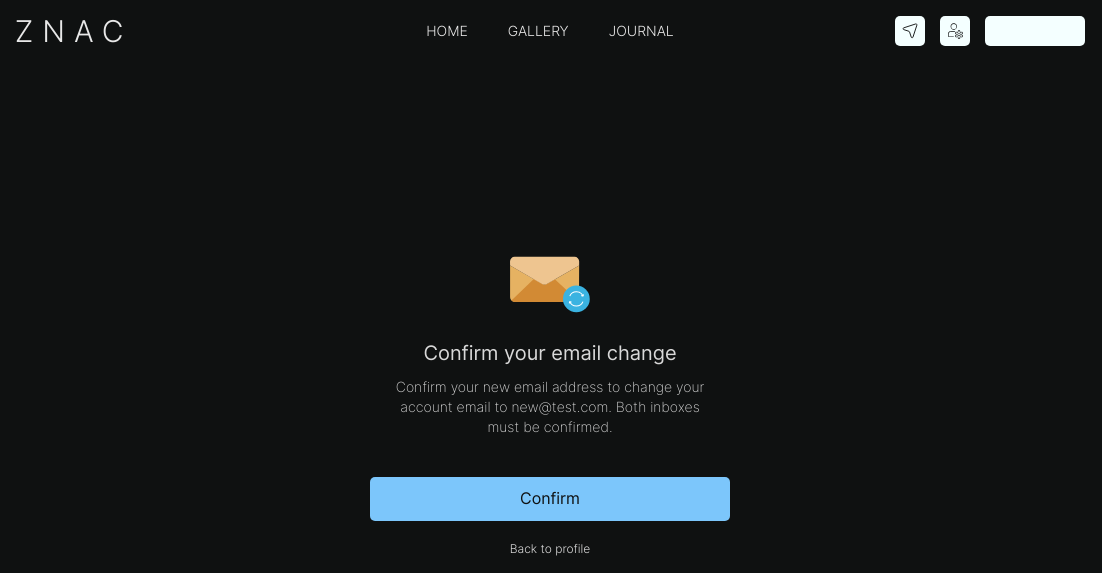
Test: a link consumed elsewhere switches to the invalid state on confirmation
Click the button "Confirm".
click(550, 498)  # box [370,476,730,520]
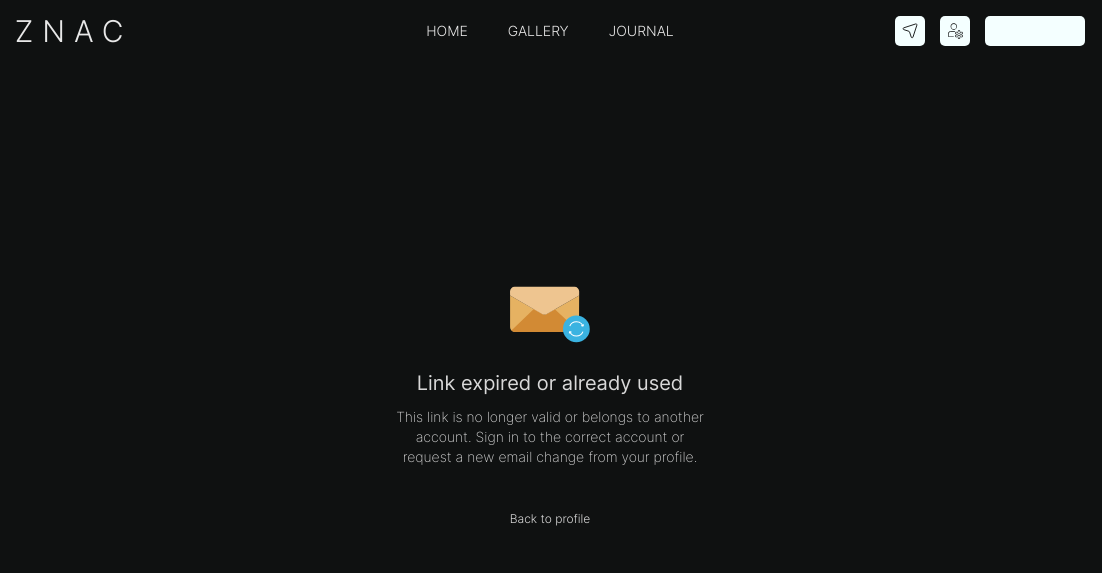
Expected: the heading "Link expired or already used" is shown, [417,370,683,394]
